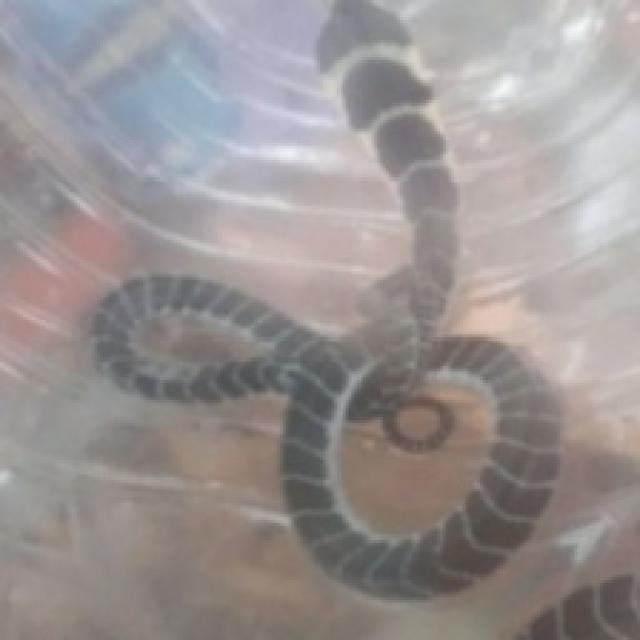king cobra: (91, 0, 557, 597), (331, 369, 497, 534)
